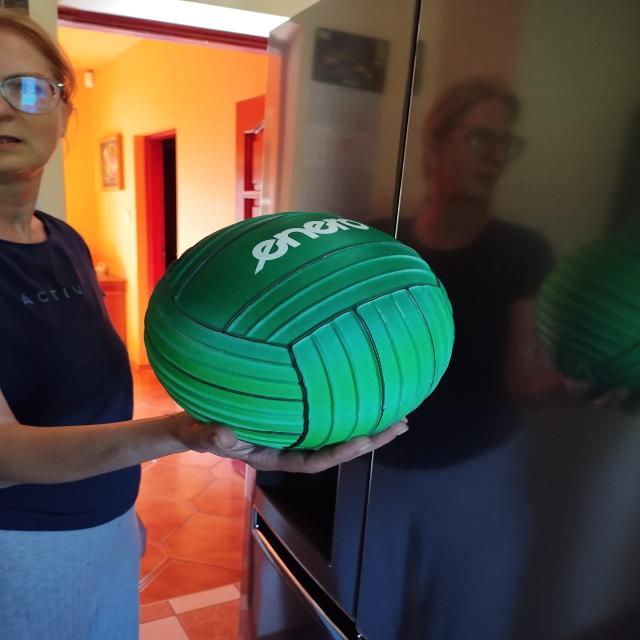zielona: (144, 212, 455, 450)
